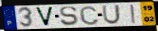3: (18, 6, 35, 29)
C: (78, 5, 100, 26)
I: (129, 4, 138, 24)
S: (59, 6, 79, 26)
U: (102, 4, 122, 25)
V: (34, 6, 55, 27)
